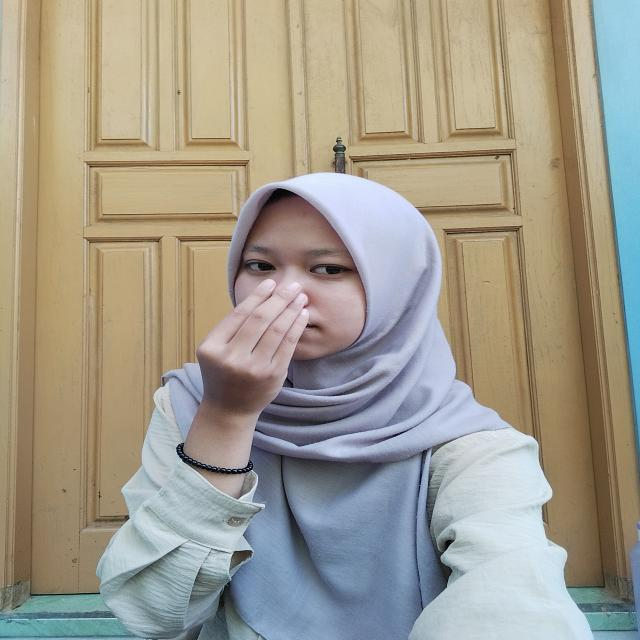bau: (162, 270, 320, 414)
